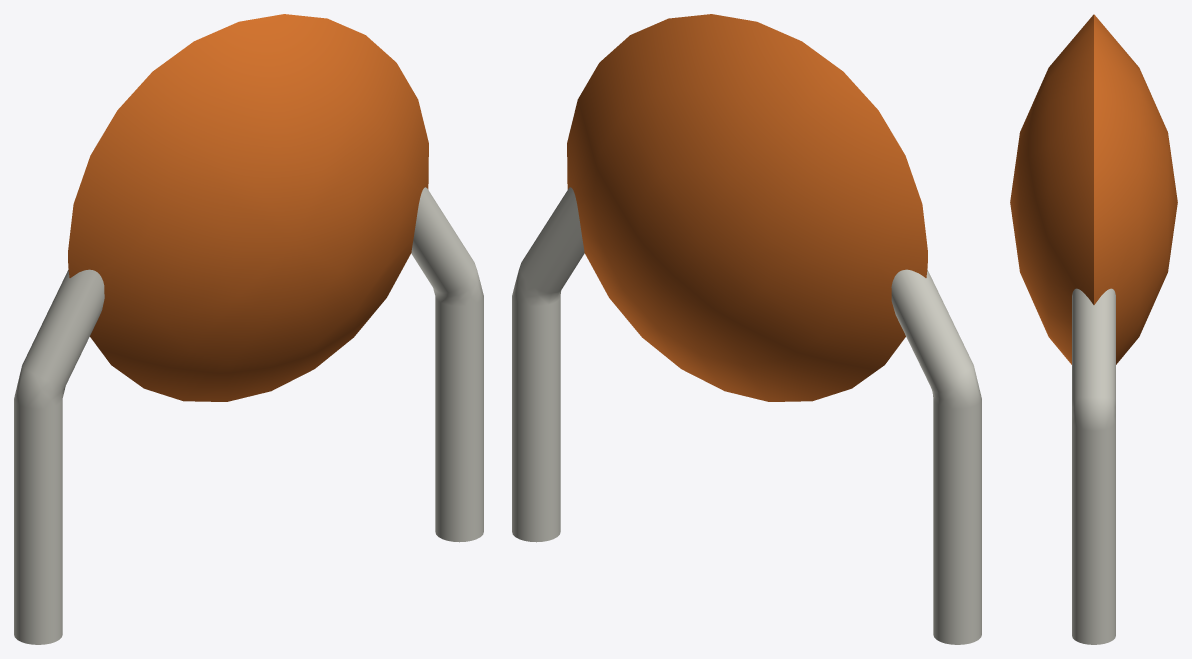
File: Capacitor_THT__C_Disc_D4.3mm_W1.9mm_P5.00mm.glb
3 views of the same model, side by side, from view 1: azimuth 30°, elevation 25°; view 2: azimuth 150°, elevation 25°; view 3: azimuth 270°, elevation 25° (orthographic). The views are drawn at different scales.
Parts seen in each view (by area): view 1: C_Disc_D43mm_W19mm_P500mm; view 2: C_Disc_D43mm_W19mm_P500mm; view 3: C_Disc_D43mm_W19mm_P500mm.
Boxes of the visible parts, x1,y1,x2,y2 form: C_Disc_D43mm_W19mm_P500mm: (14, 14, 483, 644); C_Disc_D43mm_W19mm_P500mm: (512, 14, 981, 644); C_Disc_D43mm_W19mm_P500mm: (1010, 14, 1177, 644).
Bounding box in the file's own units: 0.0055 × 0.0064 × 0.0019.
